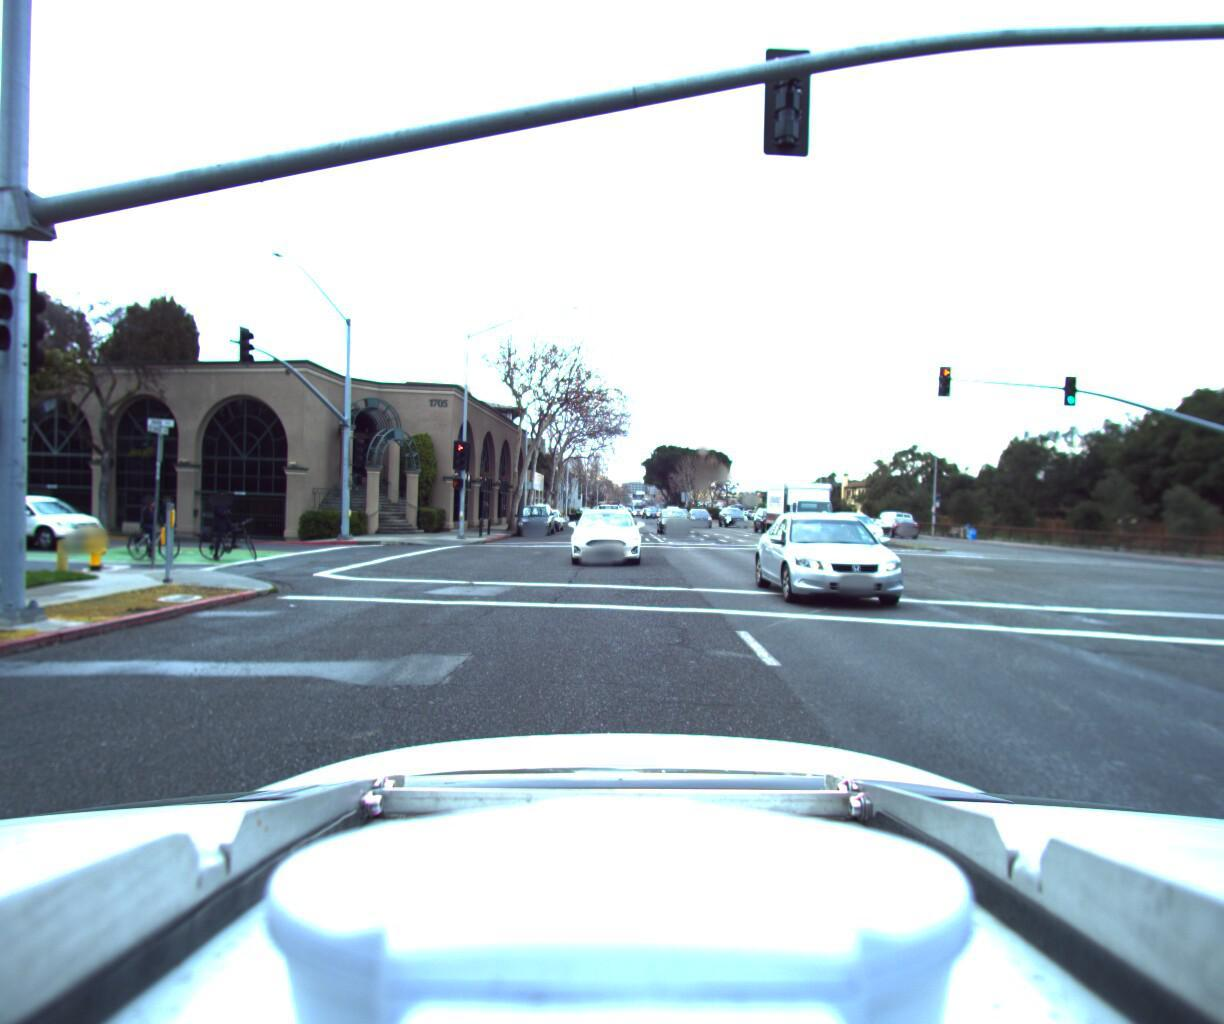bicycle: (96, 484, 198, 561), (179, 482, 279, 559)
car: (757, 496, 961, 629), (0, 486, 119, 548), (568, 499, 642, 566), (816, 503, 889, 543), (512, 495, 558, 531), (864, 505, 913, 530), (656, 499, 695, 529), (874, 502, 915, 528), (592, 494, 626, 524), (531, 500, 566, 526), (718, 498, 751, 521), (686, 498, 715, 522)
truck: (760, 473, 841, 535)
